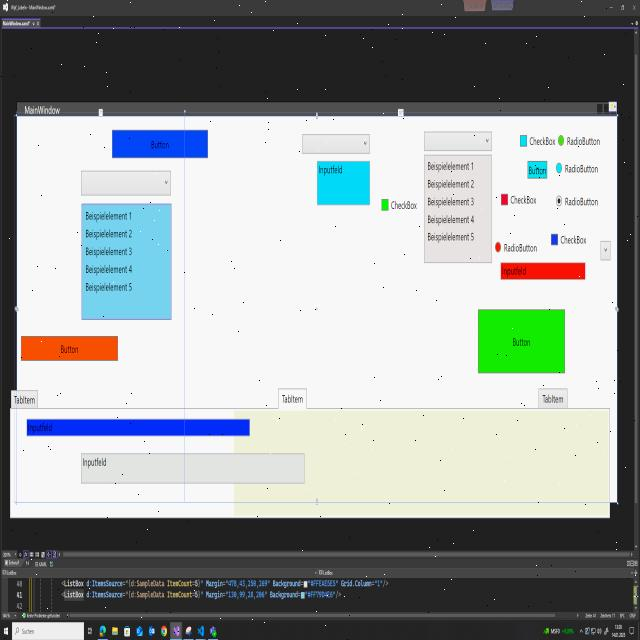button: (477, 306, 566, 376), (19, 331, 120, 365), (111, 127, 210, 160), (526, 156, 548, 181)
checkbox: (519, 134, 528, 148), (500, 192, 509, 206), (550, 232, 559, 246), (381, 198, 389, 212)
dropdownMenu: (80, 169, 172, 321), (423, 131, 492, 264), (302, 133, 371, 155), (600, 240, 611, 262)
input: (80, 450, 306, 486), (25, 417, 252, 439), (316, 158, 371, 207), (499, 260, 587, 282)
label: (504, 242, 537, 254), (566, 136, 601, 147), (529, 134, 556, 148), (564, 164, 598, 175), (565, 196, 598, 207), (390, 200, 418, 212), (510, 194, 538, 206), (560, 234, 587, 246)
menuItem: (85, 209, 133, 223), (85, 263, 133, 276), (85, 280, 133, 293), (85, 228, 133, 240), (85, 246, 133, 258), (426, 231, 474, 243), (427, 160, 474, 172), (426, 214, 474, 225), (428, 178, 474, 189), (427, 196, 475, 206)
radio: (557, 133, 565, 147), (494, 240, 502, 254), (555, 161, 563, 174), (556, 194, 562, 207)
tabControl: (536, 385, 570, 412), (276, 387, 308, 413), (10, 389, 40, 410)
